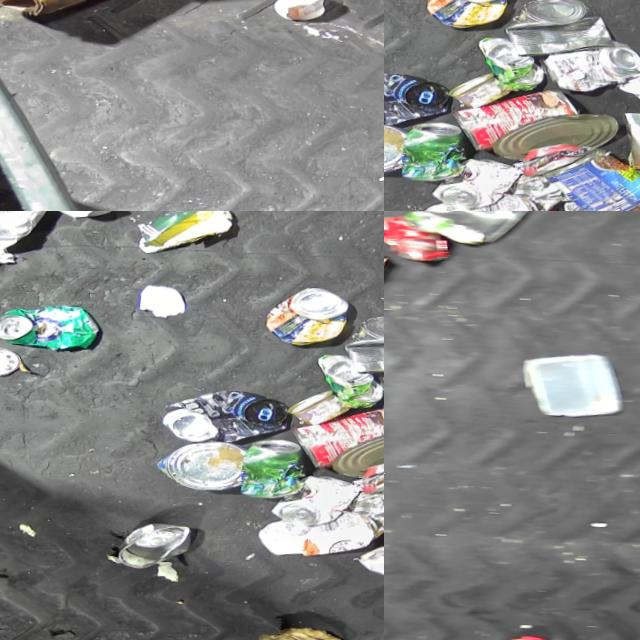can: (457, 79, 589, 150), (166, 382, 297, 444), (545, 135, 640, 211), (500, 103, 627, 159), (507, 0, 624, 55), (296, 395, 384, 467), (545, 30, 640, 89), (267, 280, 355, 343), (0, 298, 106, 349), (438, 149, 532, 205), (277, 466, 371, 522), (162, 434, 253, 489), (384, 64, 457, 126), (407, 114, 477, 176), (246, 431, 316, 493), (479, 29, 553, 86), (403, 211, 533, 243), (125, 517, 204, 568), (318, 346, 384, 402), (384, 211, 458, 260), (338, 419, 384, 476), (454, 64, 519, 104), (293, 381, 358, 421), (346, 304, 384, 372), (427, 0, 515, 25), (384, 116, 413, 171), (569, 193, 634, 211), (623, 102, 640, 164), (0, 344, 26, 376)
